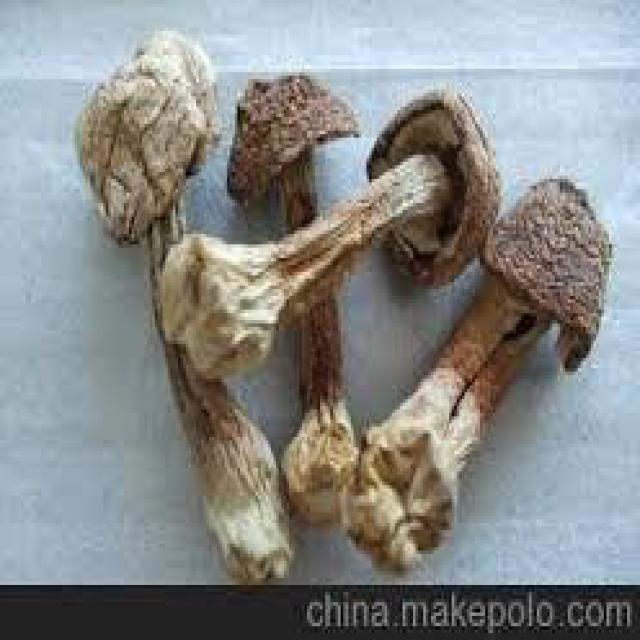Agaricus blazei Murill: (81, 29, 290, 580), (358, 175, 612, 563), (168, 93, 497, 373), (236, 62, 360, 525)
